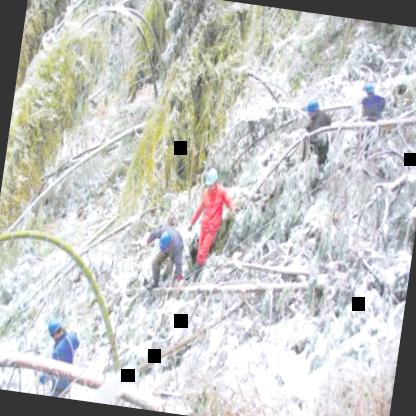helmet: (154, 223, 176, 256), (201, 162, 222, 196), (46, 313, 66, 341), (304, 96, 322, 122)
